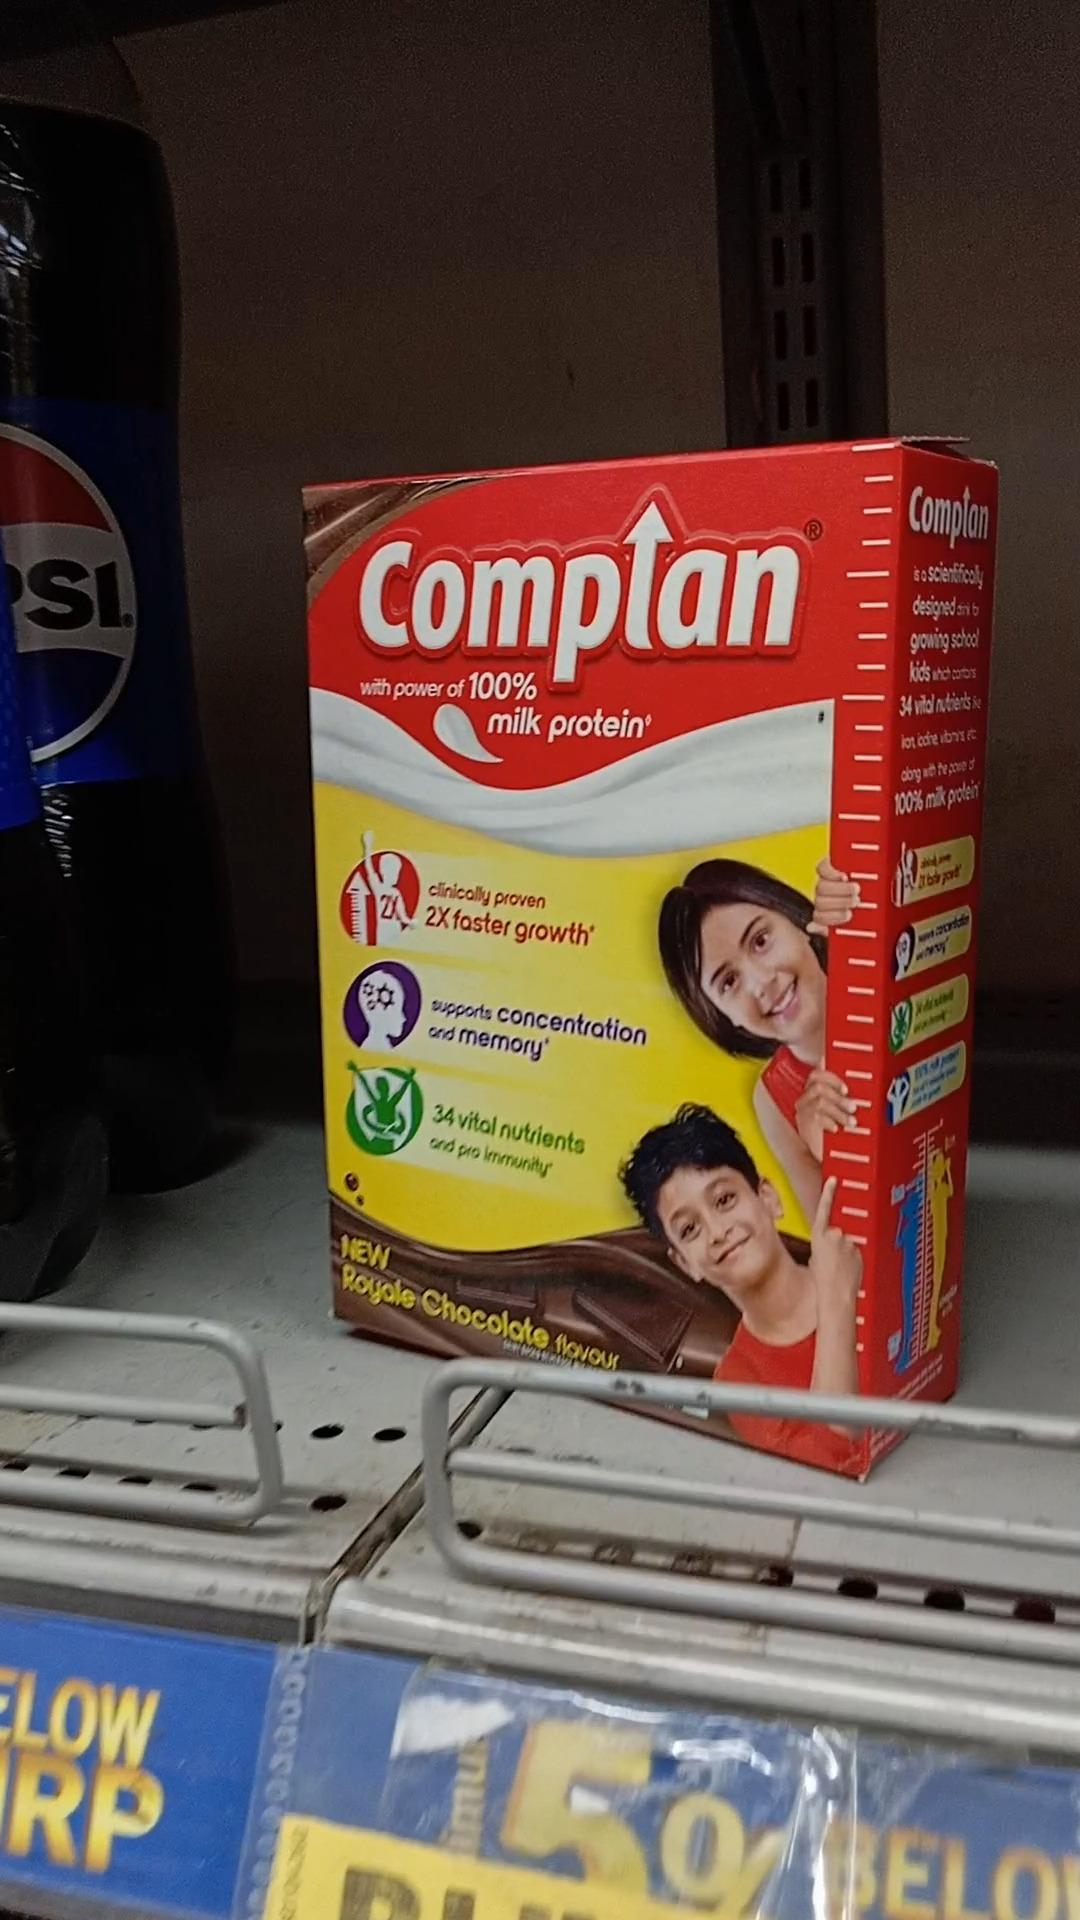COMPLAN_CHOCOLATE_200_GMS_PACK: (311, 483, 866, 1431)
